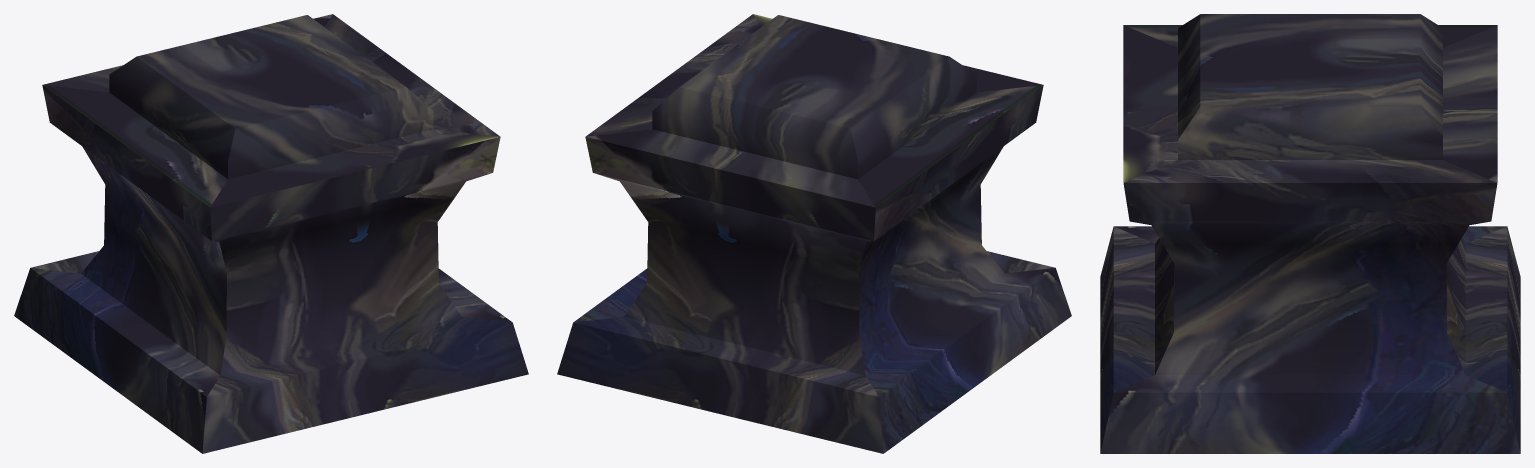
File: qiao_11.FBX
3 renders of one model, left to right at view 1: azimuth 30°, elevation 25°; view 2: azimuth 150°, elevation 25°; view 3: azimuth 270°, elevation 25°, orthographic. The views are drawn at different scales.
Parts seen in each view (by area): view 1: qiao_11; view 2: qiao_11; view 3: qiao_11.
Boxes of the visible parts, bbox=[...] form: qiao_11: bbox=[14, 14, 528, 453]; qiao_11: bbox=[557, 14, 1071, 453]; qiao_11: bbox=[1100, 14, 1520, 453].
Size of the model in its own units: 361 by 289 by 361.
